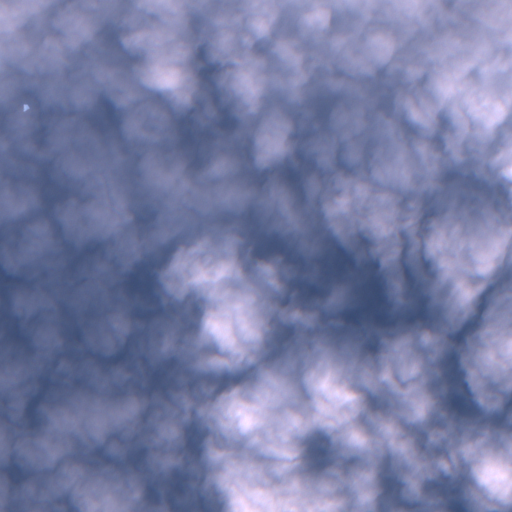Iceberg: (23, 104, 29, 111)
